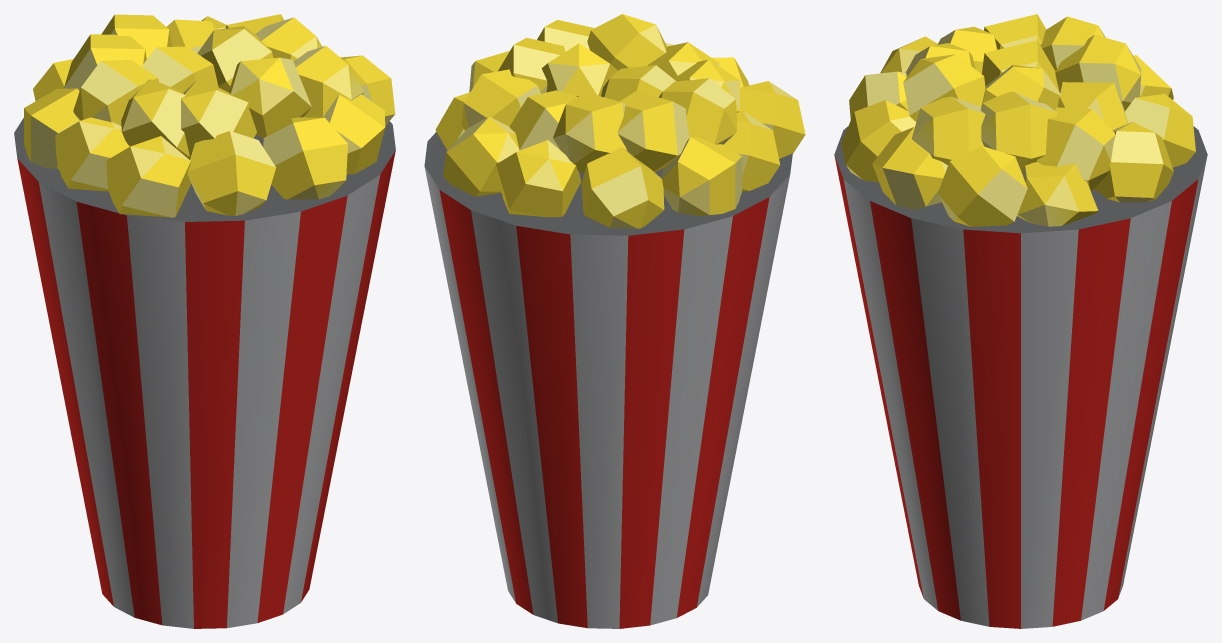
The model's file is SM_CupPopcorn_01.fbx.
The picture shows the model from 3 angles, left to right: view 1: azimuth 30°, elevation 25°; view 2: azimuth 150°, elevation 25°; view 3: azimuth 270°, elevation 25°; orthographic projection. The views are drawn at different scales.
Visible parts, largest first — view 1: w; view 2: w; view 3: w.
Part boxes in pixels (x1=…): w: x1=14, y1=14, x2=395, y2=628; w: x1=424, y1=14, x2=805, y2=628; w: x1=834, y1=14, x2=1207, y2=628.
Bounding box in the file's own units: 24.02 × 38.14 × 24.02.
